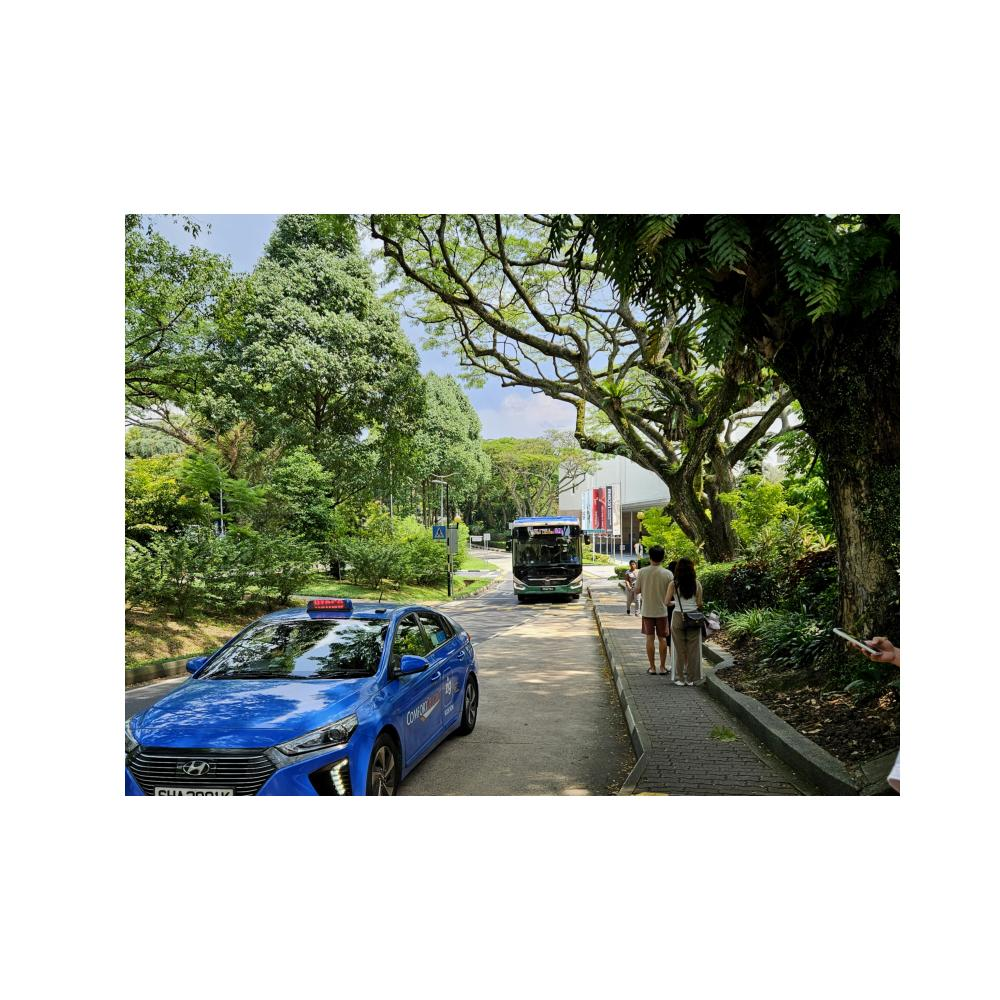bus: (506, 520, 590, 606)
